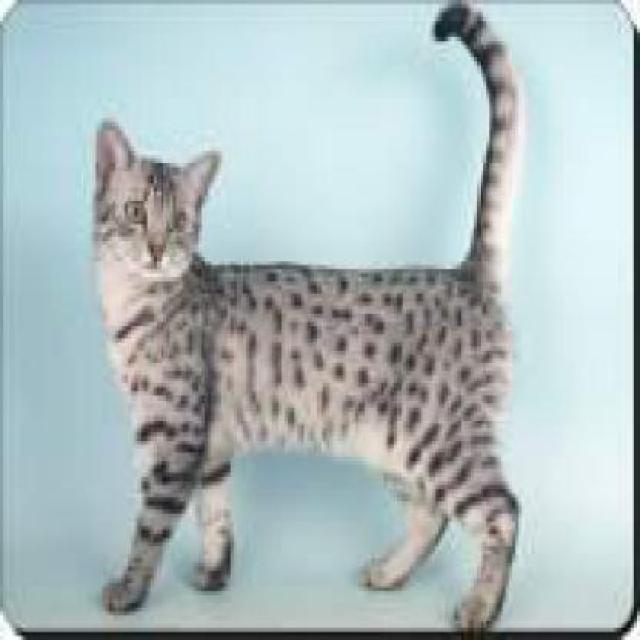cat: (92, 0, 522, 625)
